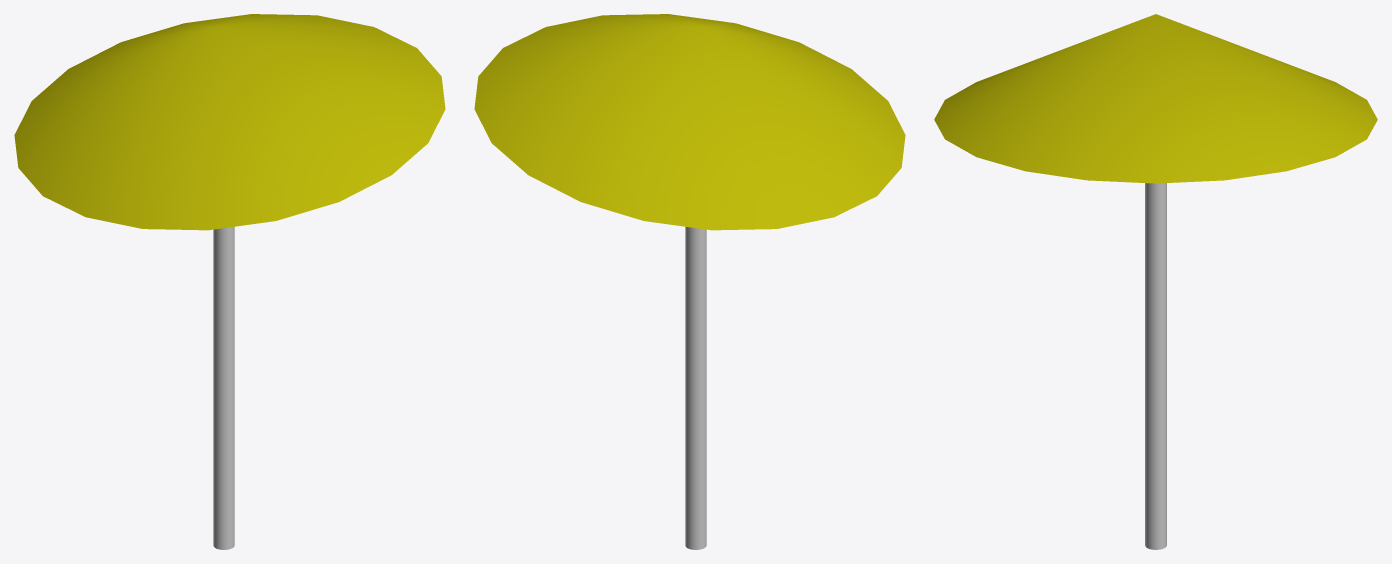
Rendered from UmbrellaYellow.fbx.
3 views of the same model, side by side, from view 1: azimuth 30°, elevation 25°; view 2: azimuth 150°, elevation 25°; view 3: azimuth 270°, elevation 25° (orthographic).
Parts seen in each view (by area): view 1: pCone8, pCylinder17; view 2: pCone8, pCylinder17; view 3: pCone8, pCylinder17.
Boxes of the visible parts, bbox=[...] form: pCone8: bbox=[14, 14, 445, 230]; pCylinder17: bbox=[213, 226, 234, 549]; pCone8: bbox=[474, 14, 905, 230]; pCylinder17: bbox=[685, 226, 706, 549]; pCone8: bbox=[934, 14, 1377, 183]; pCylinder17: bbox=[1145, 183, 1166, 549].
Bounding box in the file's own units: 94.89 × 126 × 95.88.
